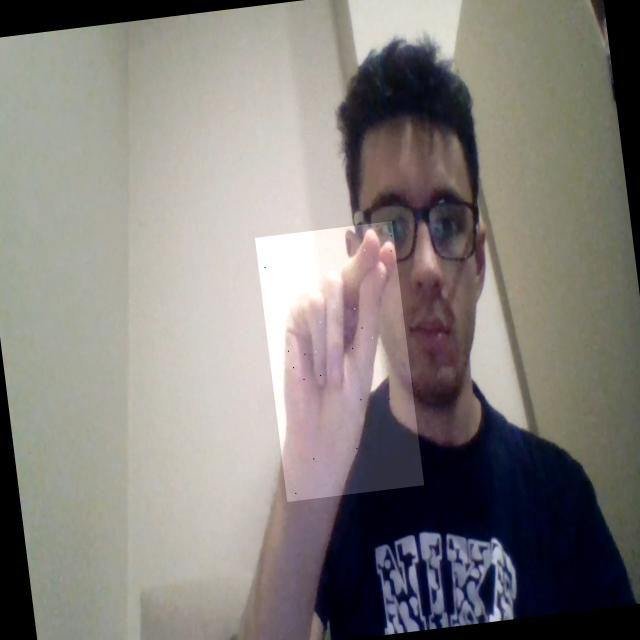no: (254, 220, 423, 502)
